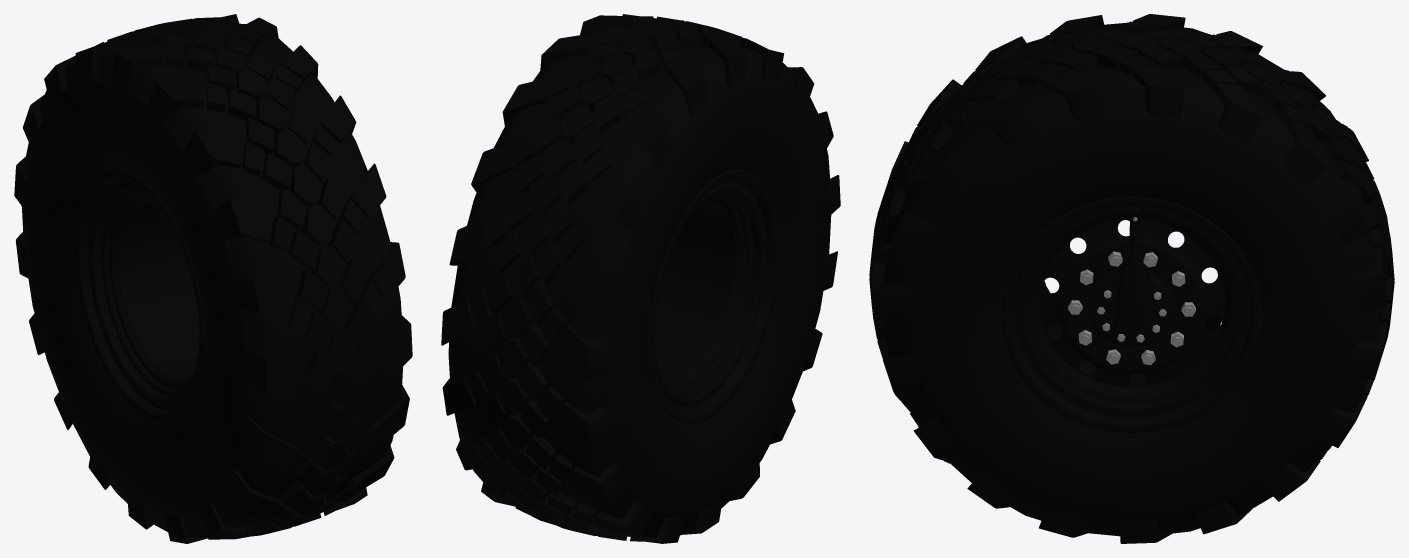
The model's file is offroad_truck_wheel.glb.
3 renders of one model, left to right at view 1: azimuth 30°, elevation 25°; view 2: azimuth 150°, elevation 25°; view 3: azimuth 270°, elevation 25°, orthographic.
Parts seen in each view (by area): view 1: Object_2, Object_3; view 2: Object_2, Object_3; view 3: Object_2, Object_3.
Part boxes in pixels (x1,y1,x2,y2): Object_2: (21,23,403,537); Object_3: (14,14,412,543); Object_2: (448,22,831,537); Object_3: (441,14,840,543); Object_2: (883,22,1382,536); Object_3: (869,14,1394,543).
Bounding box in the file's own units: 0.4529 × 1.2 × 1.2.
1 material, 1 textured.
